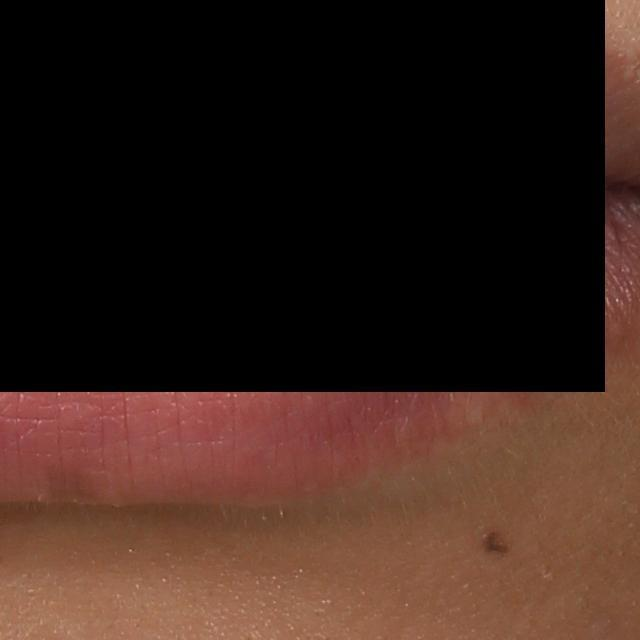nevus: (482, 526, 512, 555)
